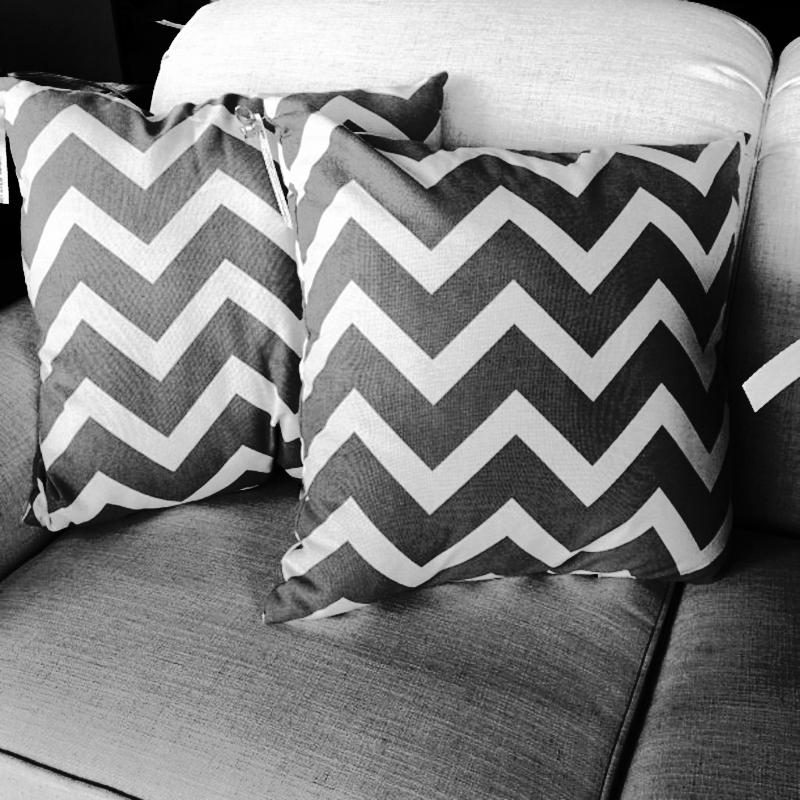pillow: (260, 116, 726, 626), (0, 76, 440, 534)
